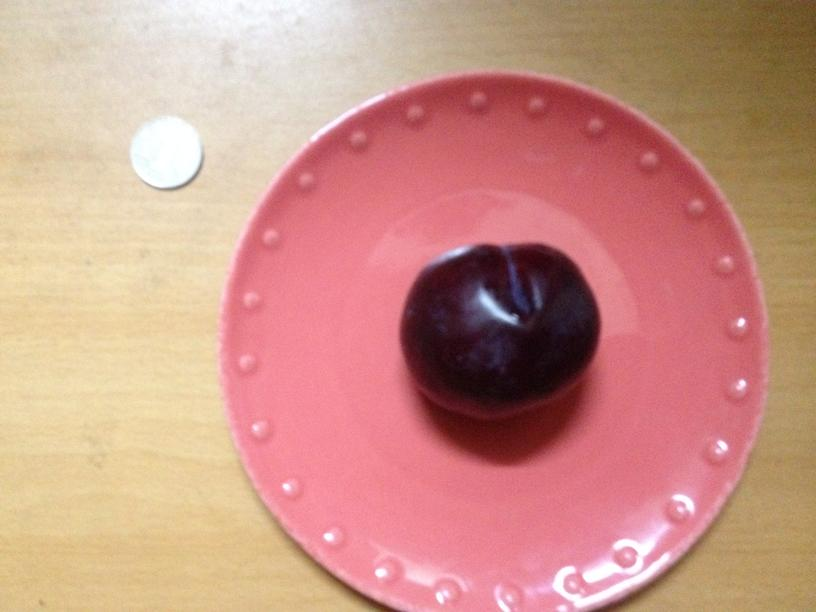coin: (124, 108, 202, 188)
plum: (406, 239, 601, 419)
